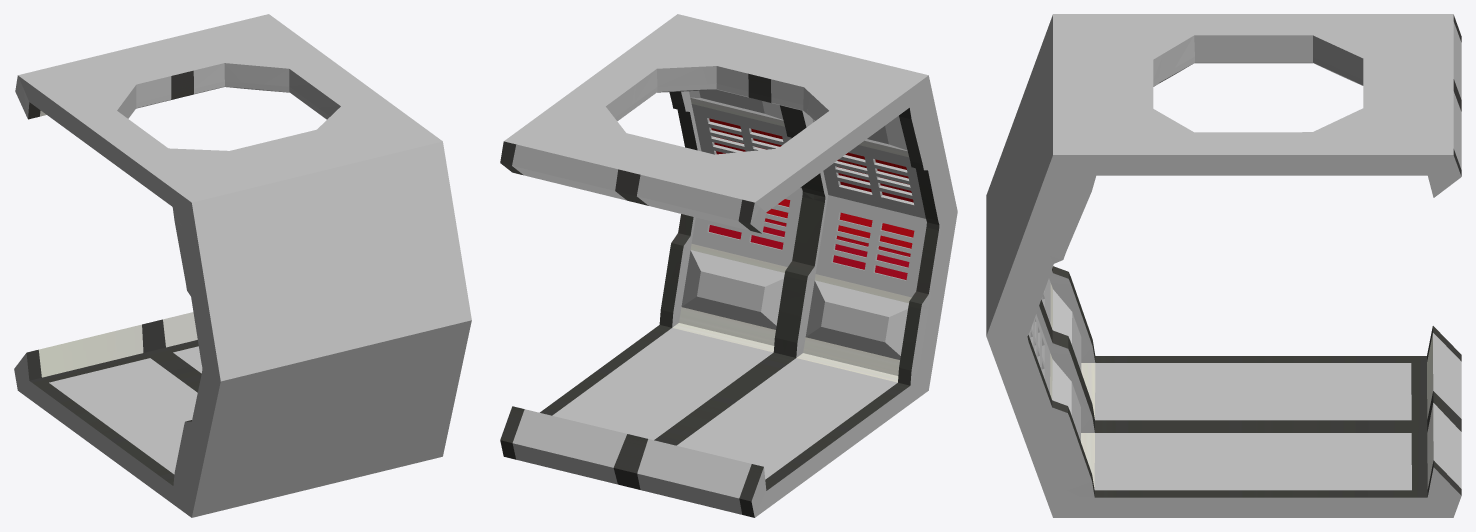
File: TopHallwayHole.fbx
3 renders of one model, left to right at view 1: azimuth 30°, elevation 25°; view 2: azimuth 150°, elevation 25°; view 3: azimuth 270°, elevation 25°, orthographic. The views are drawn at different scales.
Parts seen in each view (by area): view 1: Hallway_Top_Hole; view 2: Hallway_Top_Hole; view 3: Hallway_Top_Hole.
Part boxes in pixels (<box>): Hallway_Top_Hole: <box>14,14,471,517</box>; Hallway_Top_Hole: <box>500,14,957,517</box>; Hallway_Top_Hole: <box>986,14,1461,517</box>.
Size of the model in its own units: 4.38 by 5.25 by 6.23.
